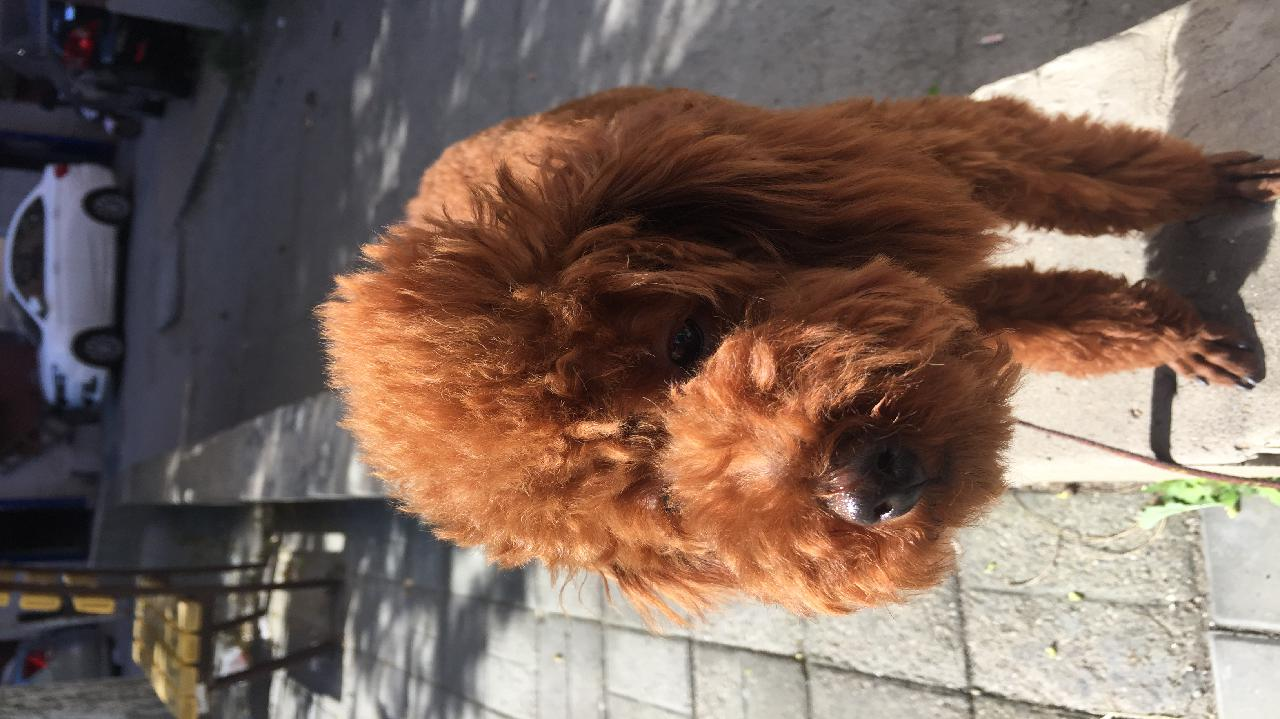coin: (345, 107, 1253, 614)
